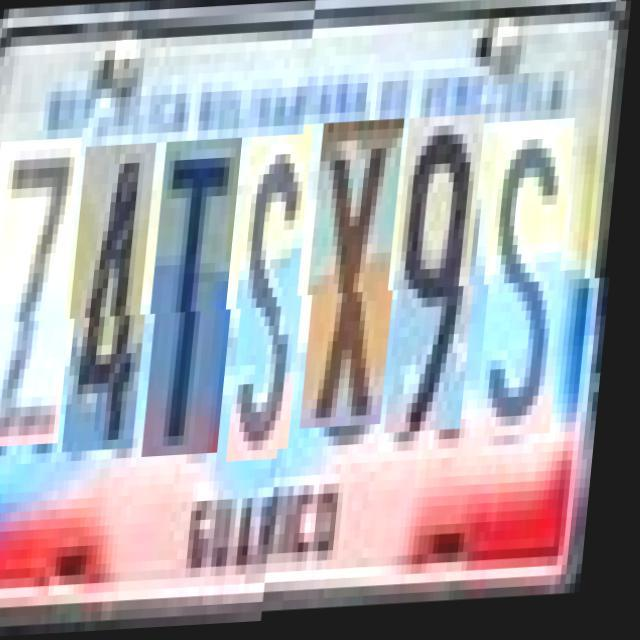4: (71, 144, 165, 453)
9: (393, 130, 492, 448)
S: (483, 134, 582, 453), (236, 137, 321, 465)
T: (152, 140, 250, 460)
X: (308, 133, 412, 442)
Z: (0, 138, 90, 448)
